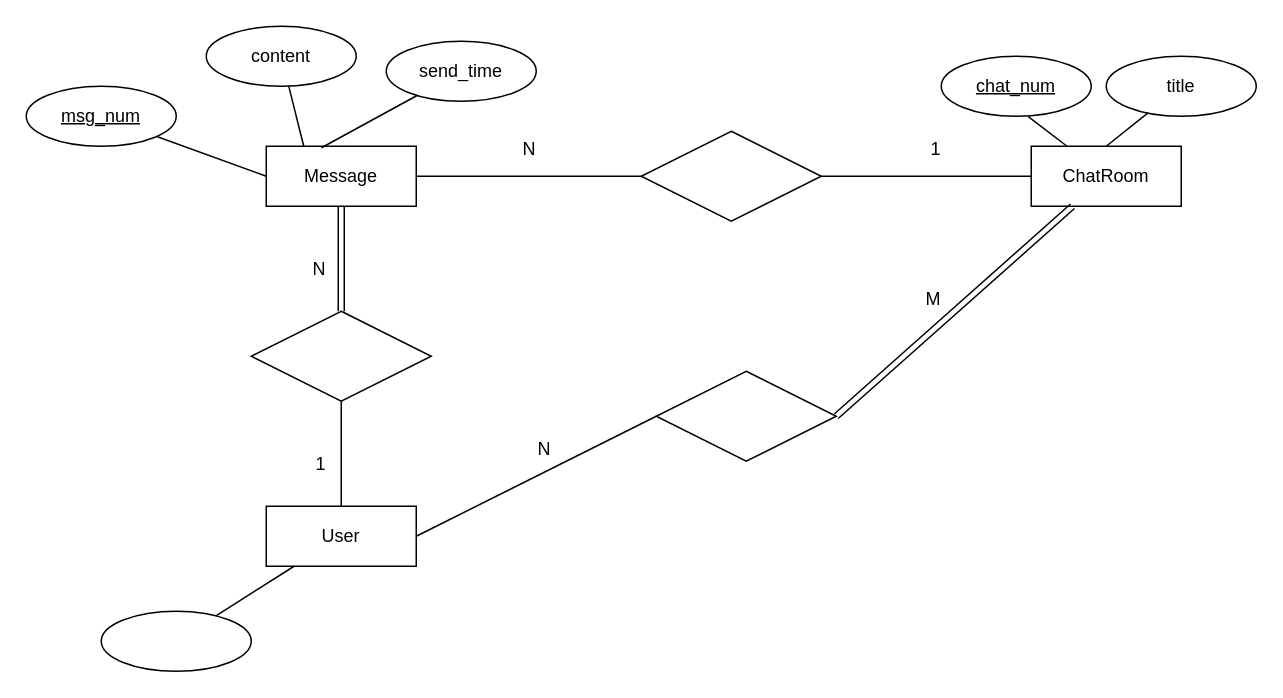
The diagram is 1283 pixels wide and 698 high, and some of its shapes have lost their labels. Each missing label, with the centre of its shape:
participate in: pixel 745 415
sended by: pixel 340 355
sended in: pixel 730 175
user_ID: pixel 175 640
